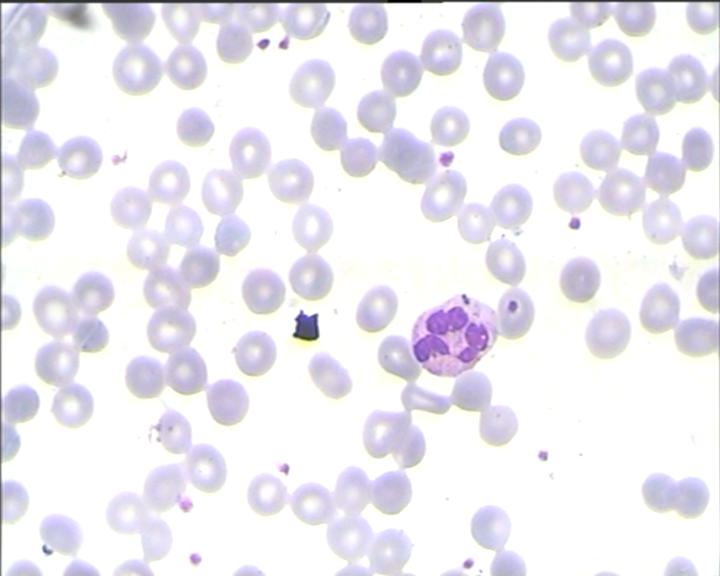neut: (405, 290, 500, 378)
